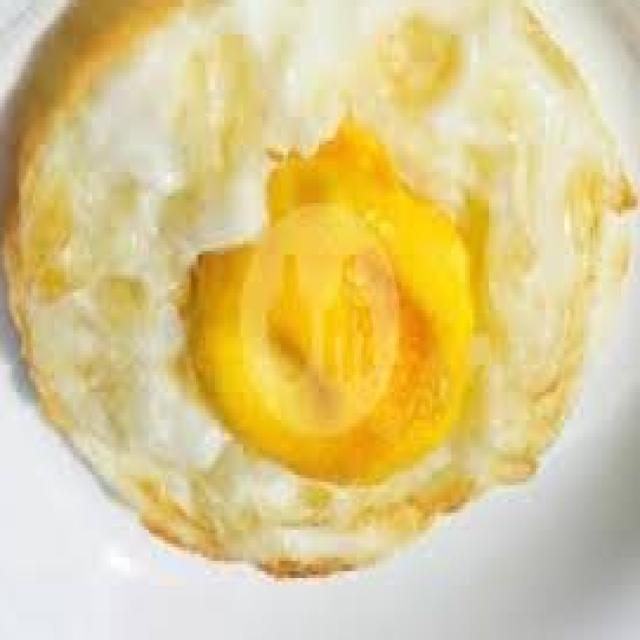telur ceplok: (2, 0, 638, 582)
